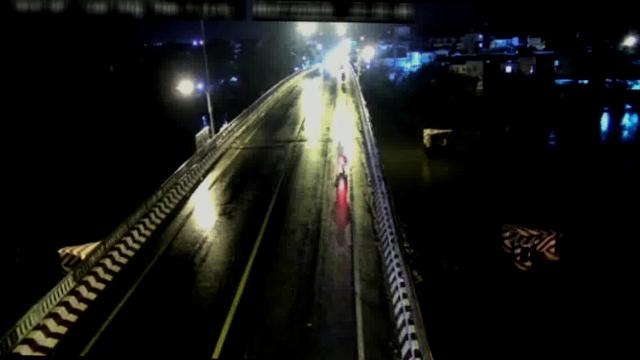Bike: (333, 138, 350, 173)
